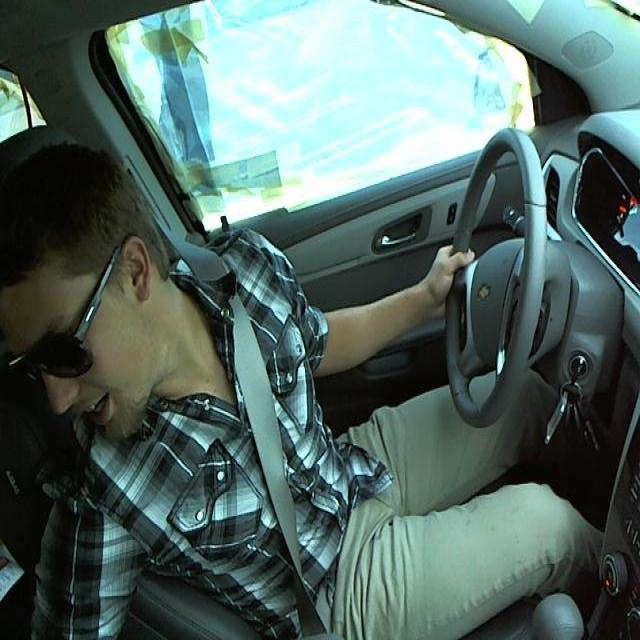seatbelt: (180, 254, 339, 638)
